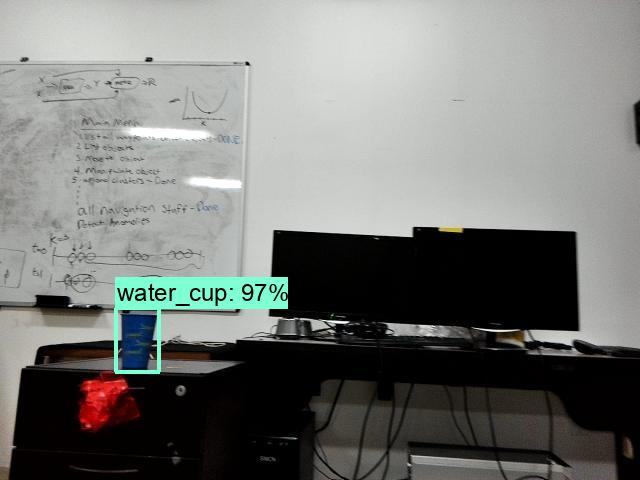water_cup: (117, 309, 161, 372)
